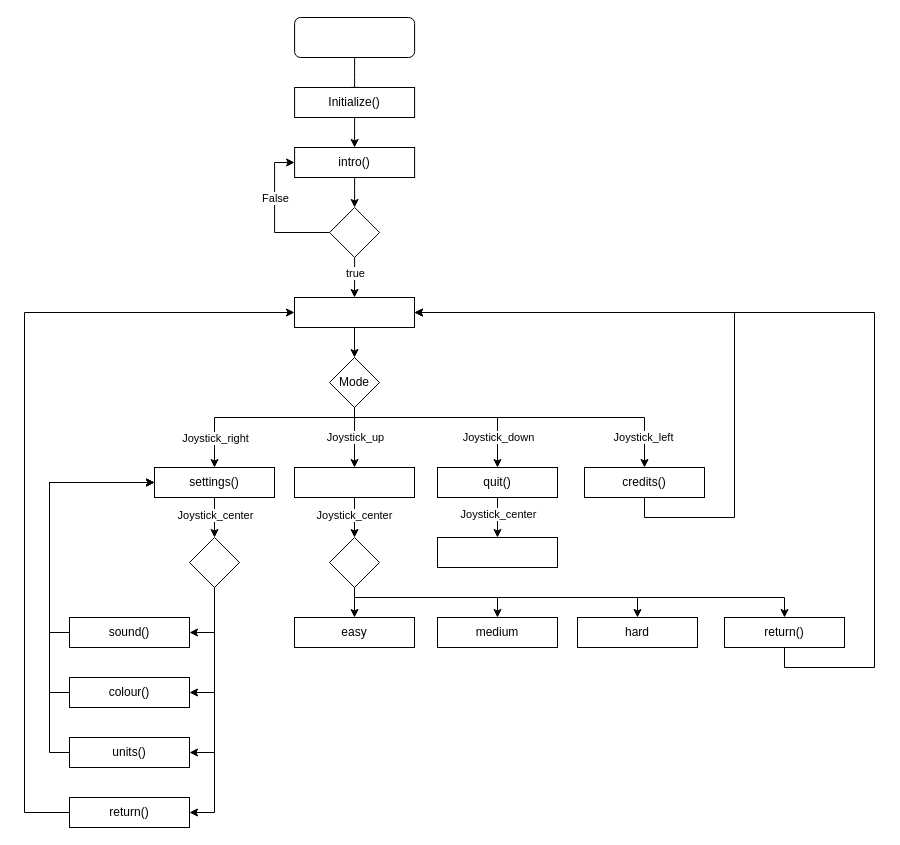
Image size: 900x845. Some labels were removed from this diagram. The shapes that lost their labels are listed below. From the top down, each one's centre as x and y in pixels, then its label:
[354,37]: Start
[354,232]: skip
[354,312]: Main_menu()
[354,482]: play()
[214,562]: select
[354,562]: diff
[497,552]: return 0
